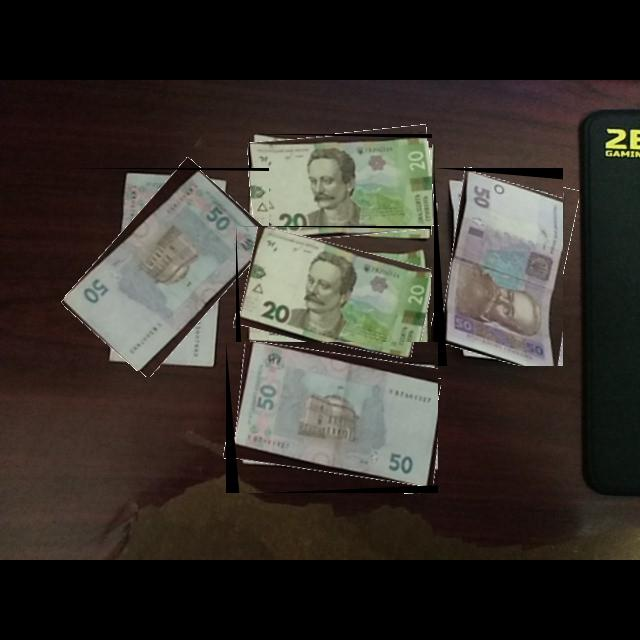20uah: (239, 227, 432, 367), (250, 137, 433, 236)
50uah: (65, 170, 270, 372), (234, 342, 439, 488), (443, 171, 564, 367)
